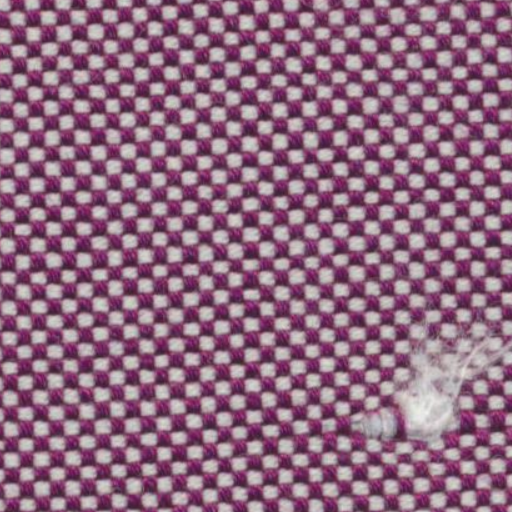DuanSha: (362, 326, 496, 455)
